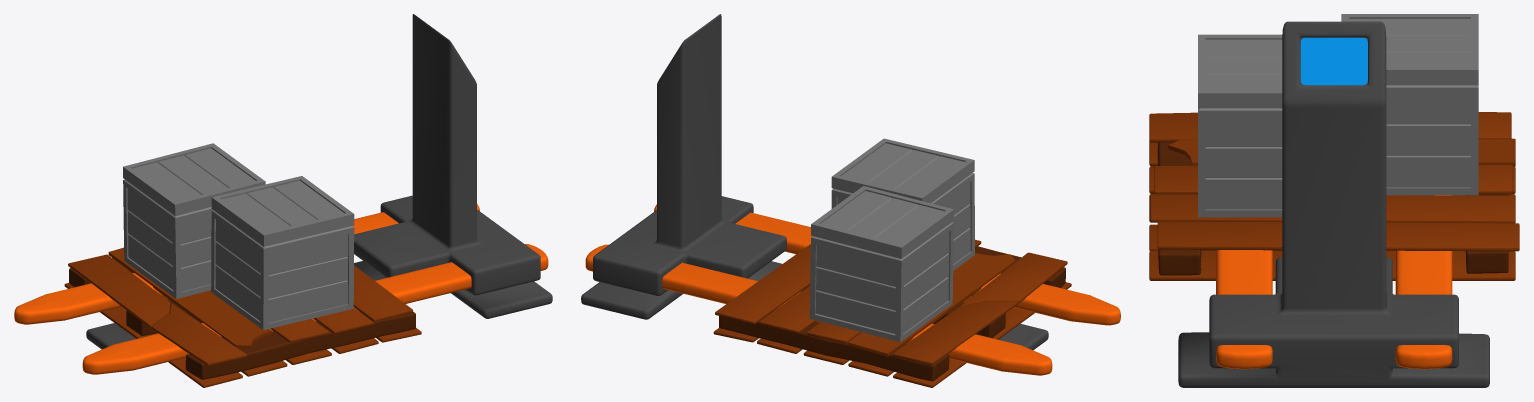
File: forklift.fbx
3 views of the same model, side by side, from view 1: azimuth 30°, elevation 25°; view 2: azimuth 150°, elevation 25°; view 3: azimuth 270°, elevation 25° (orthographic). The views are drawn at different scales.
Visible parts, largest first — view 1: Box043, TASINABILIR-KUTU006, TASINABILIR-KUTU005; view 2: Box043, TASINABILIR-KUTU005, TASINABILIR-KUTU006; view 3: Box043, TASINABILIR-KUTU005, TASINABILIR-KUTU006.
Boxes of the visible parts, bbox=[...] form: Box043: bbox=[14, 14, 552, 387]; TASINABILIR-KUTU006: bbox=[211, 176, 354, 330]; TASINABILIR-KUTU005: bbox=[123, 143, 265, 298]; Box043: bbox=[581, 14, 1120, 387]; TASINABILIR-KUTU005: bbox=[809, 186, 953, 342]; TASINABILIR-KUTU006: bbox=[831, 138, 974, 270]; Box043: bbox=[1149, 21, 1519, 387]; TASINABILIR-KUTU005: bbox=[1341, 14, 1478, 195]; TASINABILIR-KUTU006: bbox=[1198, 34, 1282, 217].
Size of the model in its own units: 203 by 105 by 108.
